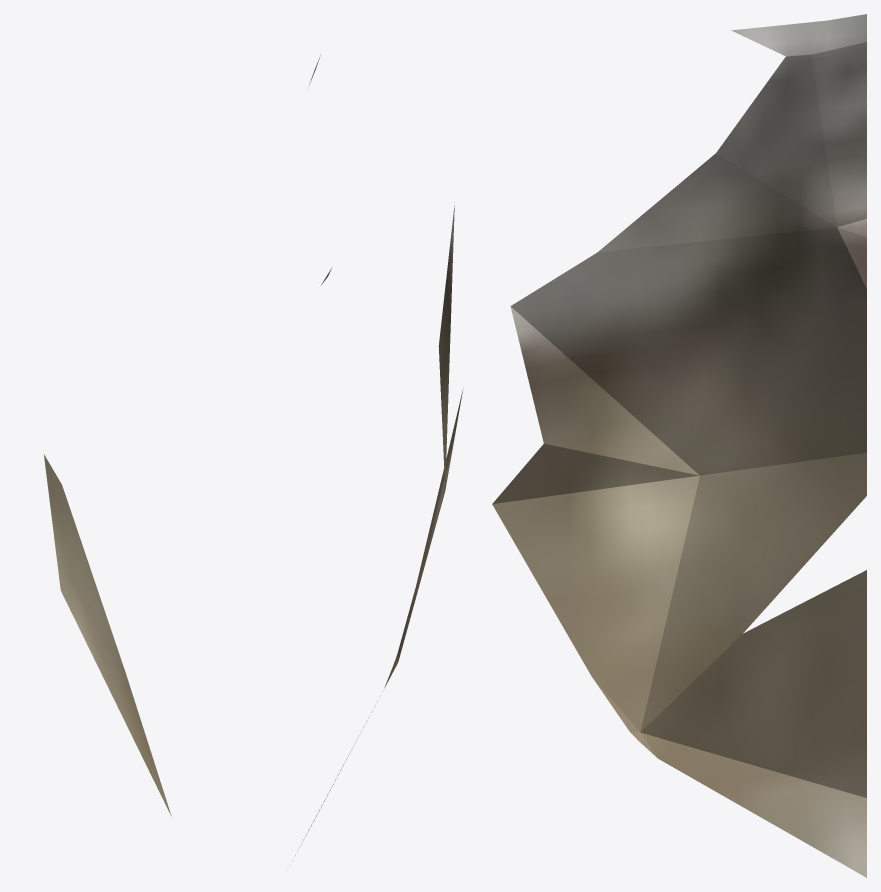
3 renders of one model, left to right at view 1: azimuth 30°, elevation 25°; view 2: azimuth 150°, elevation 25°; view 3: azimuth 270°, elevation 25°, orthographic. The views are drawn at different scales.
Size of the model in its own units: 0.0526 by 0.5029 by 0.2015.
Materials: 1 (1 with a texture image).
